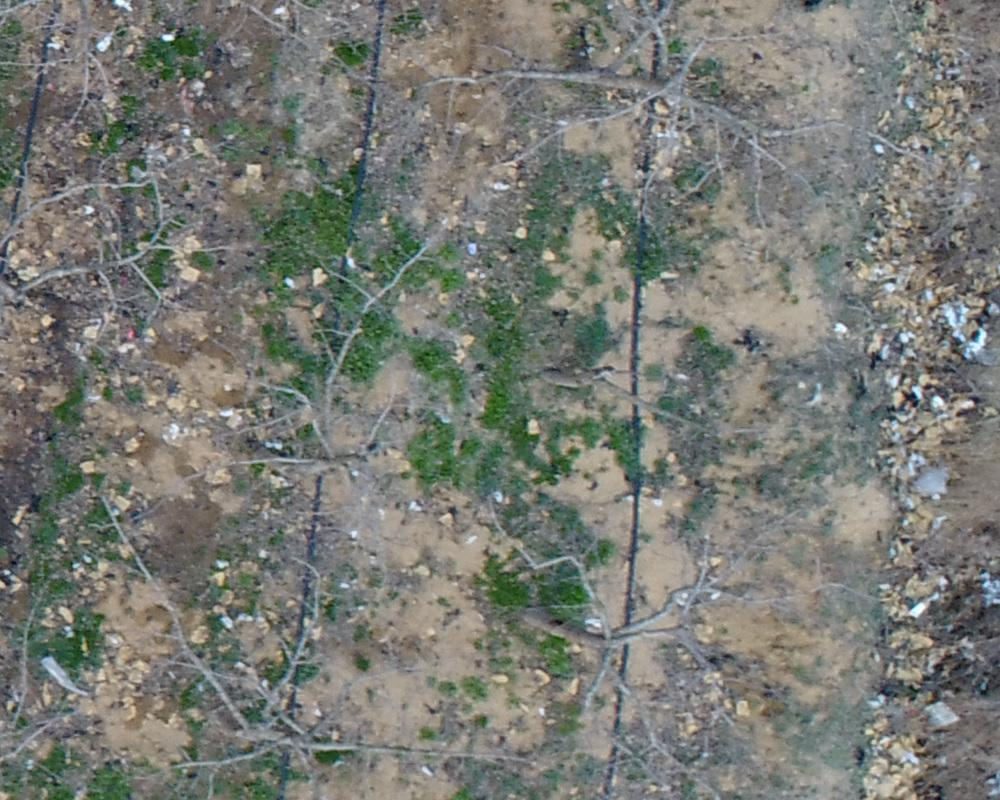apple: (87, 490, 521, 790), (406, 10, 952, 236), (177, 207, 468, 506), (10, 137, 216, 555), (487, 506, 773, 790)
